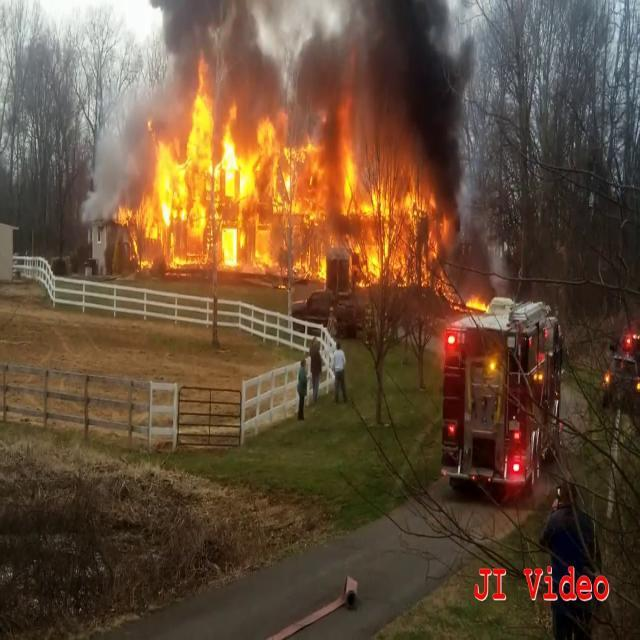Fire: (119, 76, 438, 285), (462, 288, 490, 312)
Smoke: (369, 0, 482, 201), (140, 0, 304, 111)
